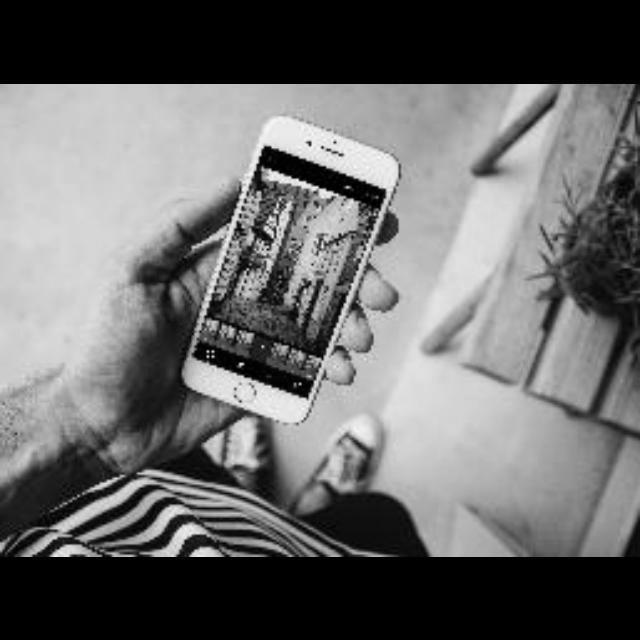fake: (181, 103, 400, 433)
